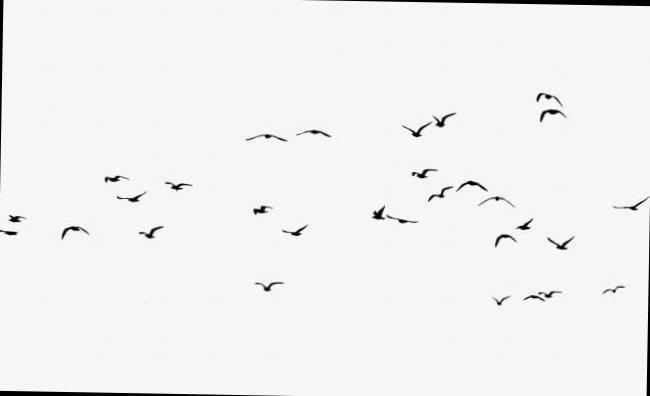bird: (232, 125, 291, 152), (540, 227, 580, 255), (155, 171, 198, 197), (94, 163, 134, 187), (54, 218, 98, 239), (480, 286, 518, 310), (128, 222, 174, 240), (247, 272, 288, 292), (276, 217, 312, 238), (596, 280, 630, 300), (248, 198, 277, 216)
